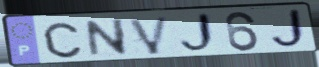6: (223, 10, 260, 53)
C: (41, 20, 84, 59)
J: (177, 11, 219, 56), (268, 7, 309, 52)
N: (84, 17, 131, 59)
V: (126, 15, 171, 56)
